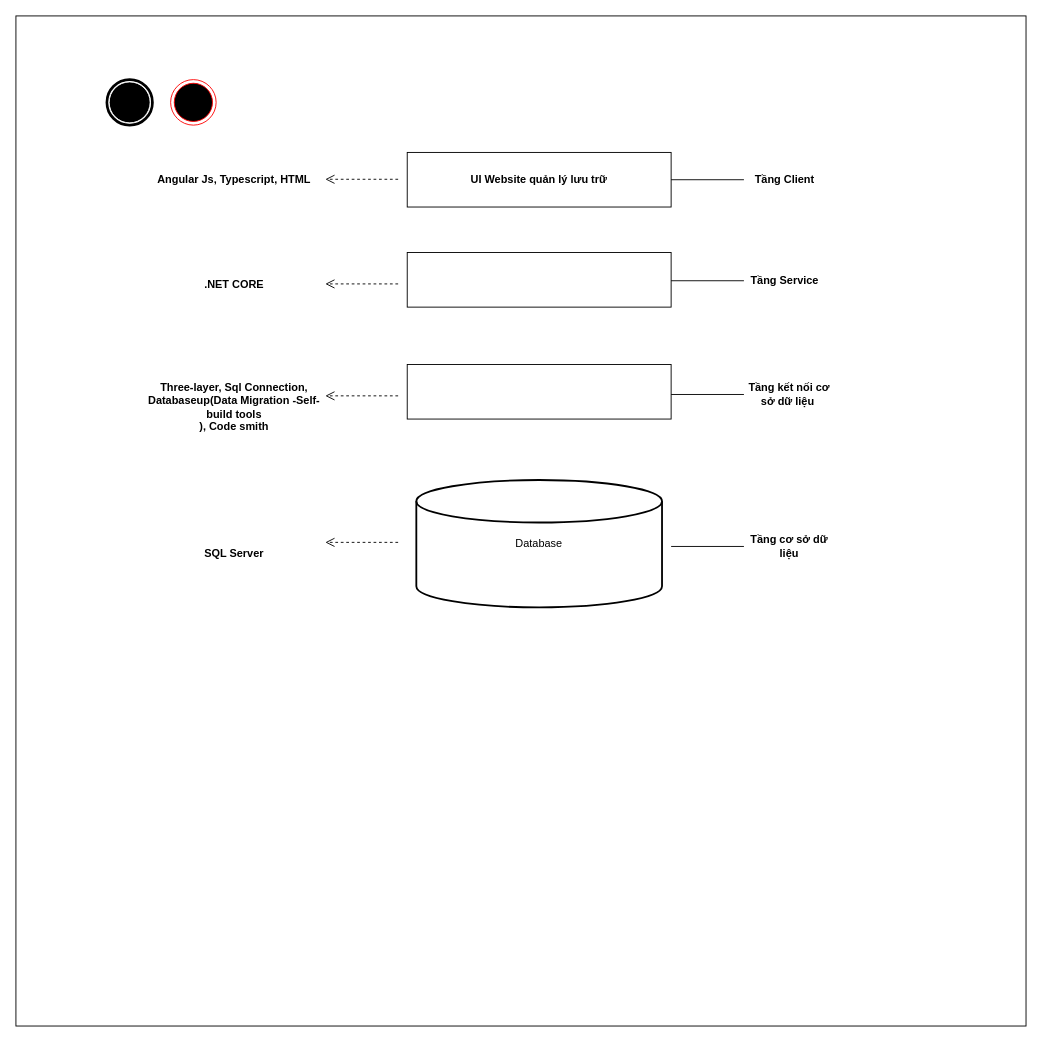
Some shapes in this 1042 by 1042 pixel diagram are drawn without their labels. The centre of each missing label's shape, as x and y in pixels:
"Các Phương thức tương tác cơ sở dữ liệu" goes at [538,391].
"Dịch vụ Web quản lý lưu trữ" goes at [538,279].
